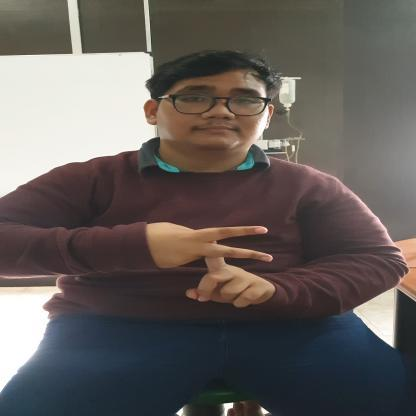F: (157, 221, 279, 310)
